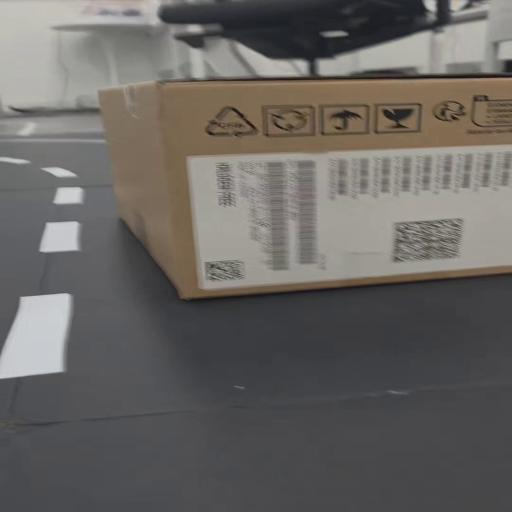Box: (95, 62, 512, 305)
